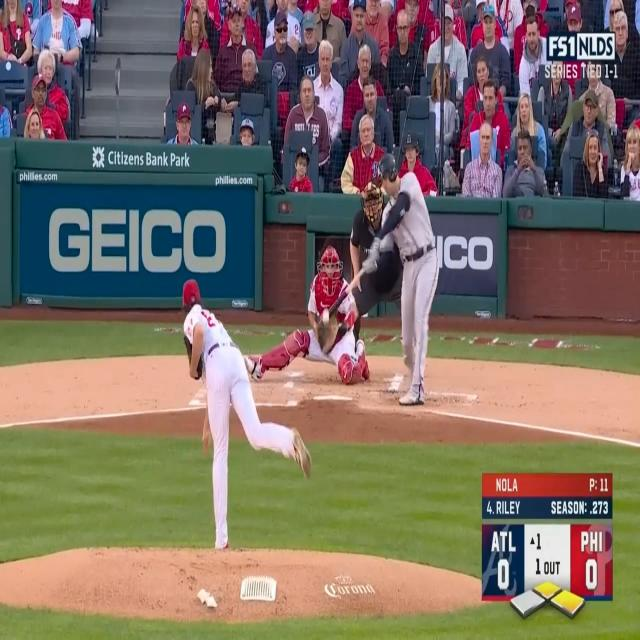baseball: (322, 309, 329, 324)
